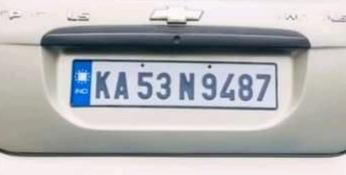3: (154, 68, 173, 102)
4: (219, 70, 237, 103)
5: (135, 68, 155, 102)
7: (254, 70, 273, 102)
8: (237, 71, 255, 104)
9: (200, 71, 218, 102)
A: (112, 67, 132, 102)
K: (93, 68, 113, 103)
N: (176, 69, 197, 104)
